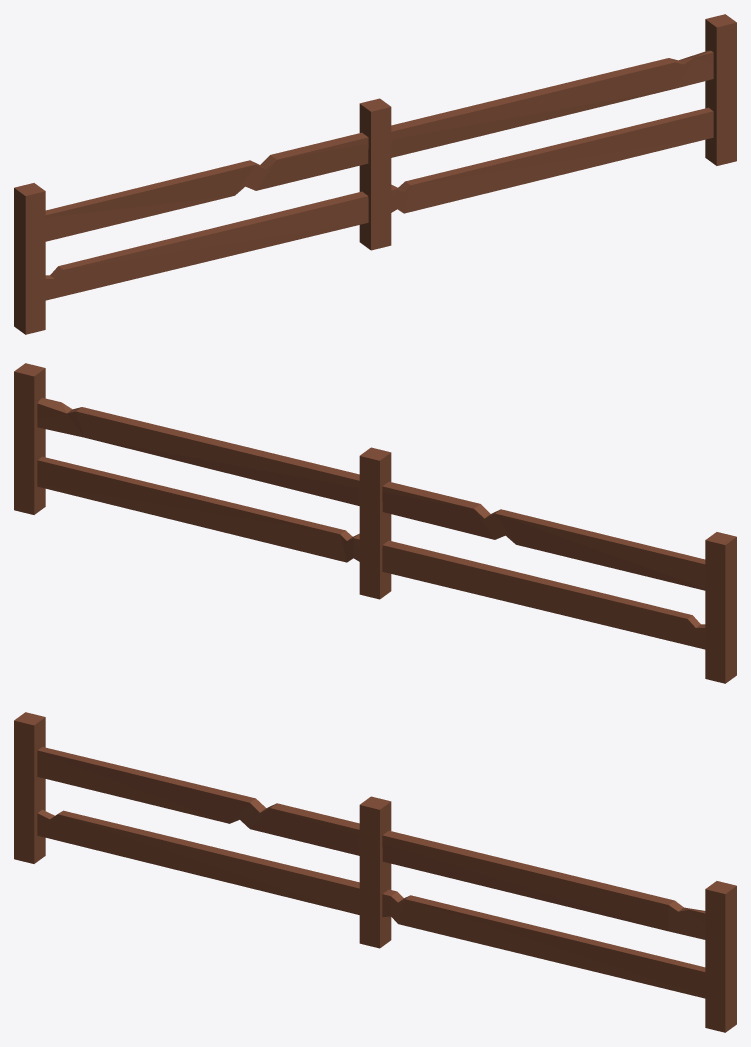
Rendered from fence.glb.
3 renders of one model, top to bottom at view 1: azimuth 30°, elevation 25°; view 2: azimuth 150°, elevation 25°; view 3: azimuth 330°, elevation 25°, orthographic.
Parts seen in each view (by area): view 1: Fence_Cube.057; view 2: Fence_Cube.057; view 3: Fence_Cube.057.
Boxes of the visible parts, x1=… form: Fence_Cube.057: x1=14, y1=14, x2=736, y2=334; Fence_Cube.057: x1=14, y1=363, x2=736, y2=683; Fence_Cube.057: x1=14, y1=712, x2=736, y2=1032.
Size of the model in its own units: 5.89 by 1.1 by 0.1654.
